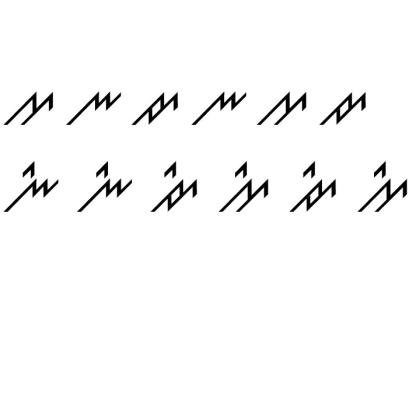ja: (315, 83, 367, 129), (128, 88, 180, 128)
ji: (145, 158, 199, 214), (286, 158, 340, 214)
nya: (190, 81, 248, 130), (62, 85, 122, 127)
nyi: (74, 158, 136, 214), (3, 158, 62, 214)
sa: (252, 83, 310, 127), (4, 82, 56, 128)
si: (355, 155, 411, 218), (215, 158, 273, 214)
